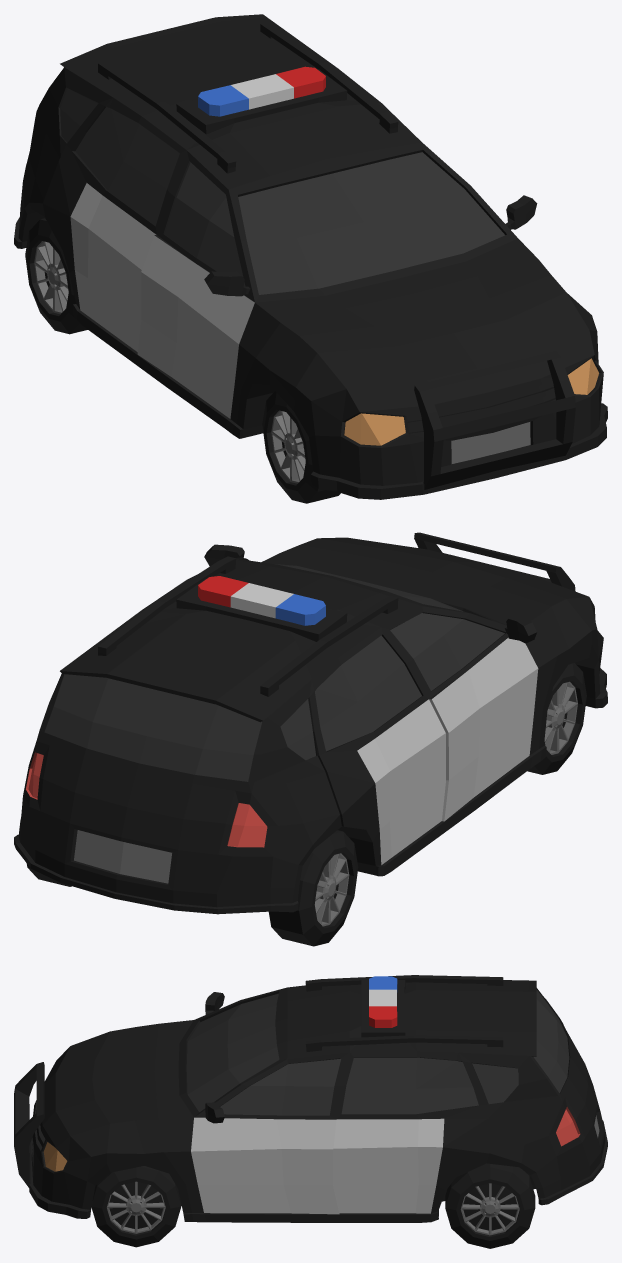
Rendered from Cop_SUV.fbx.
3 views of the same model, one above another, from view 1: azimuth 30°, elevation 25°; view 2: azimuth 150°, elevation 25°; view 3: azimuth 270°, elevation 25° (orthographic). The views are drawn at different scales.
Visible parts, largest first — view 1: Cop_SUV, Cop_SUV_FrontRightWheel, Cop _SUV_BackWheels; view 2: Cop_SUV, Cop _SUV_BackWheels, Cop_SUV_FrontRightWheel; view 3: Cop_SUV, Cop _SUV_BackWheels, Cop_SUV_FrontLeftWheel.
Part boxes in pixels (left/top/right/bottom): Cop_SUV: left=14, top=14, right=607, bottom=499; Cop_SUV_FrontRightWheel: left=262, top=391, right=340, bottom=503; Cop _SUV_BackWheels: left=25, top=218, right=87, bottom=334; Cop_SUV: left=14, top=532, right=607, bottom=914; Cop _SUV_BackWheels: left=26, top=830, right=358, bottom=946; Cop_SUV_FrontRightWheel: left=527, top=663, right=586, bottom=774; Cop_SUV: left=14, top=975, right=607, bottom=1222; Cop _SUV_BackWheels: left=445, top=1163, right=535, bottom=1248; Cop_SUV_FrontLeftWheel: left=91, top=1166, right=181, bottom=1247.
Size of the model in its own units: 210 by 431 by 160.
